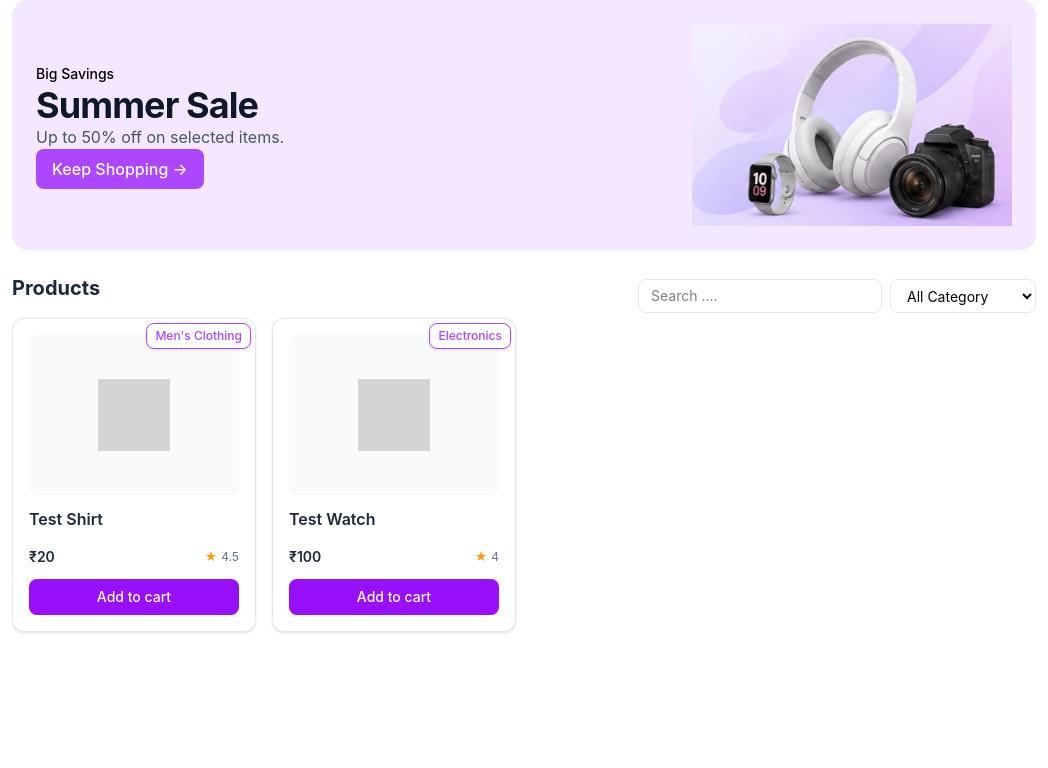
Test case: ProductList › shows a no-results message when search matches nothing
Expected: the heading "Test Shirt" is shown, x1=29 y1=509 x2=103 y2=529
Type "nonexistentproduct" into the field with placeholder "Search ...." at (760, 296), box x1=638 y1=279 x2=882 y2=313
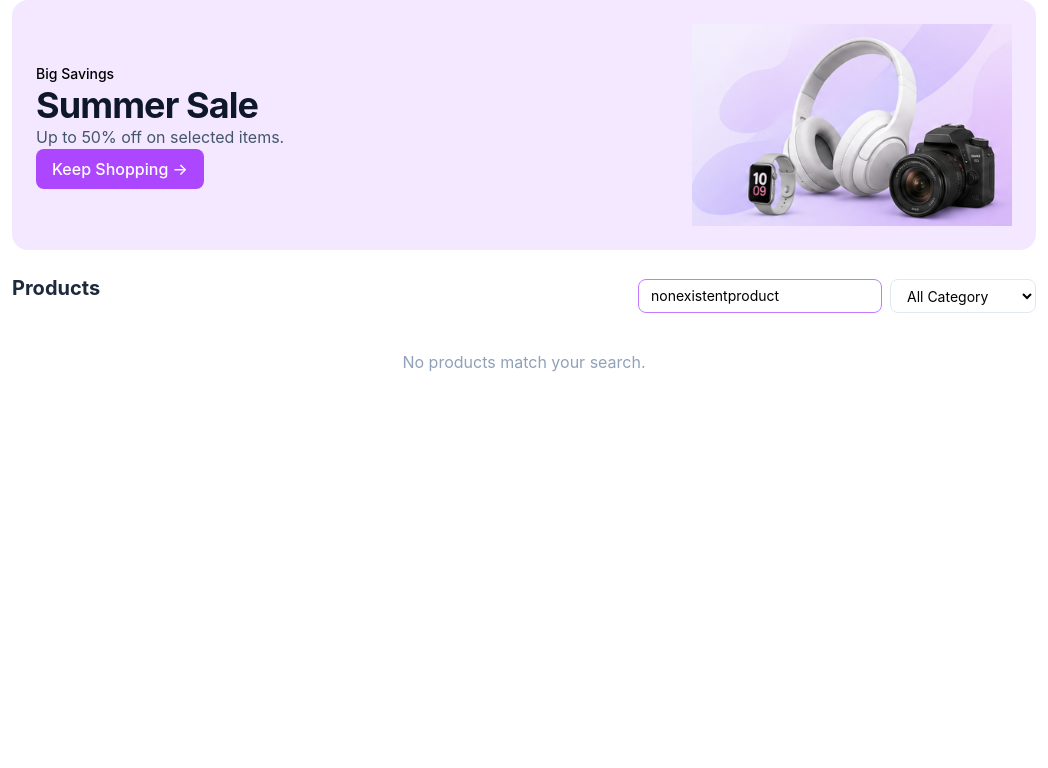
Result: the text "No products match your search." is shown at x1=402 y1=352 x2=646 y2=372
